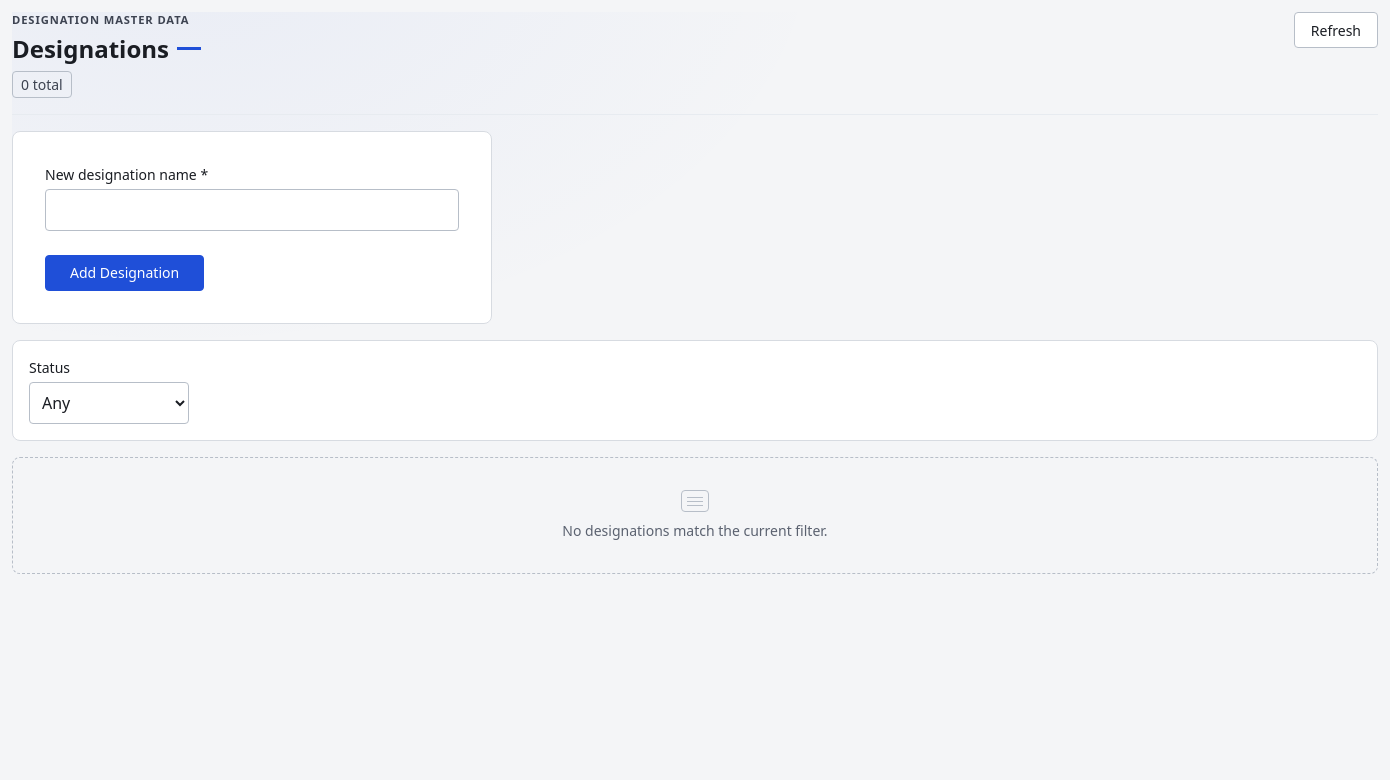
it: DesignationListPage › shows a 409 for a duplicate name, case-insensitive or not
The width and height of the screenshot is (1390, 780).
Expected: the text "No designations match the current filter." is shown, [562, 520, 828, 541]
Type "Secretary" into the field labelled "New designation name *" at point(252, 210), box [45, 189, 459, 231]
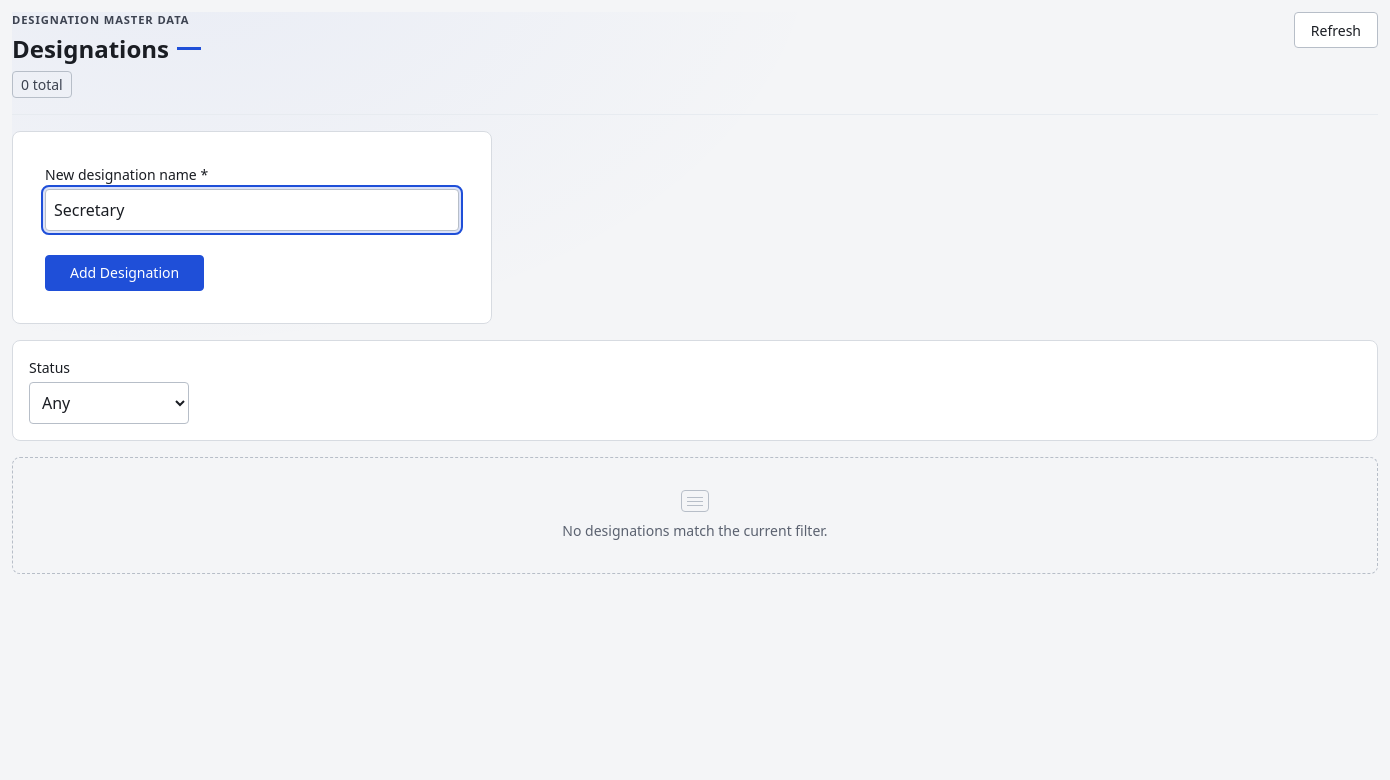
Click the button "Add Designation" at point(125, 273), box [45, 255, 204, 291]
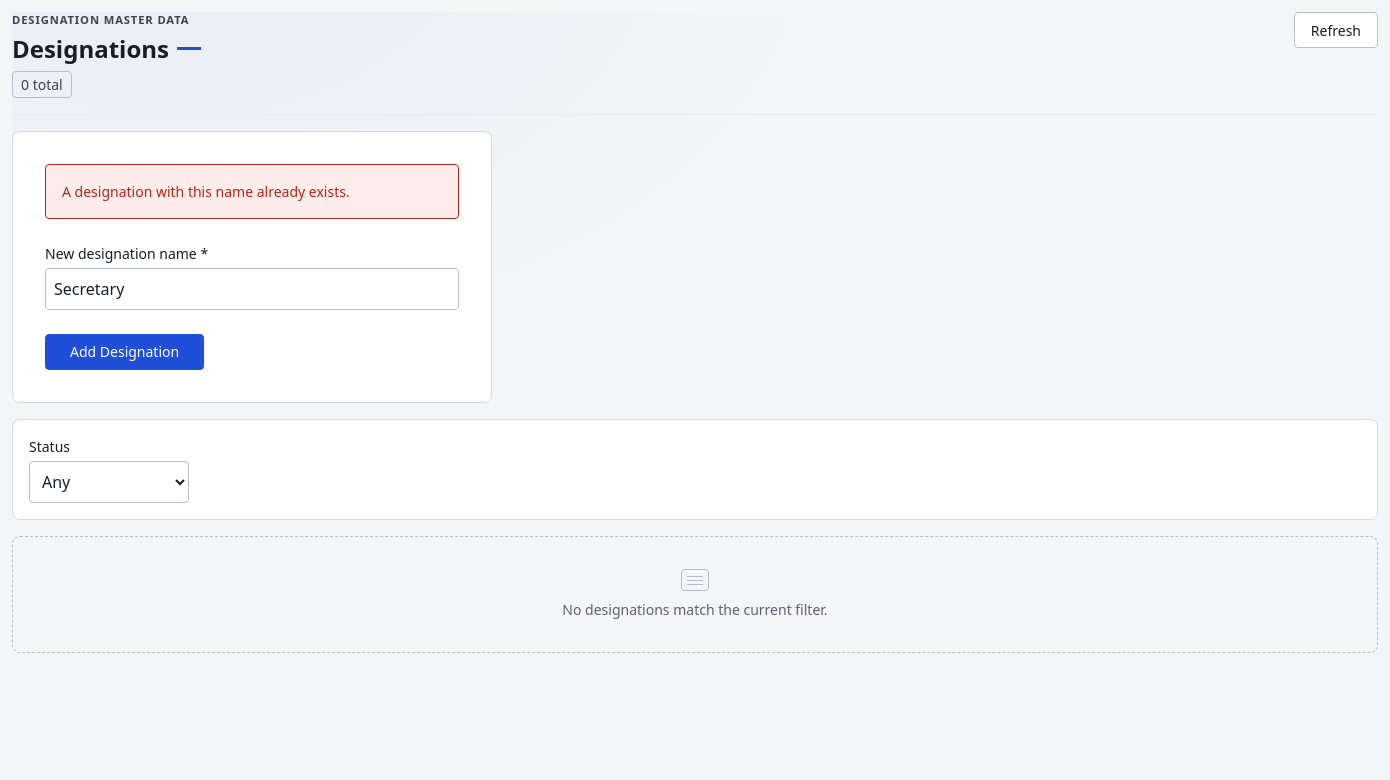
Expected: the message shows "already exists", [62, 182, 350, 201]
